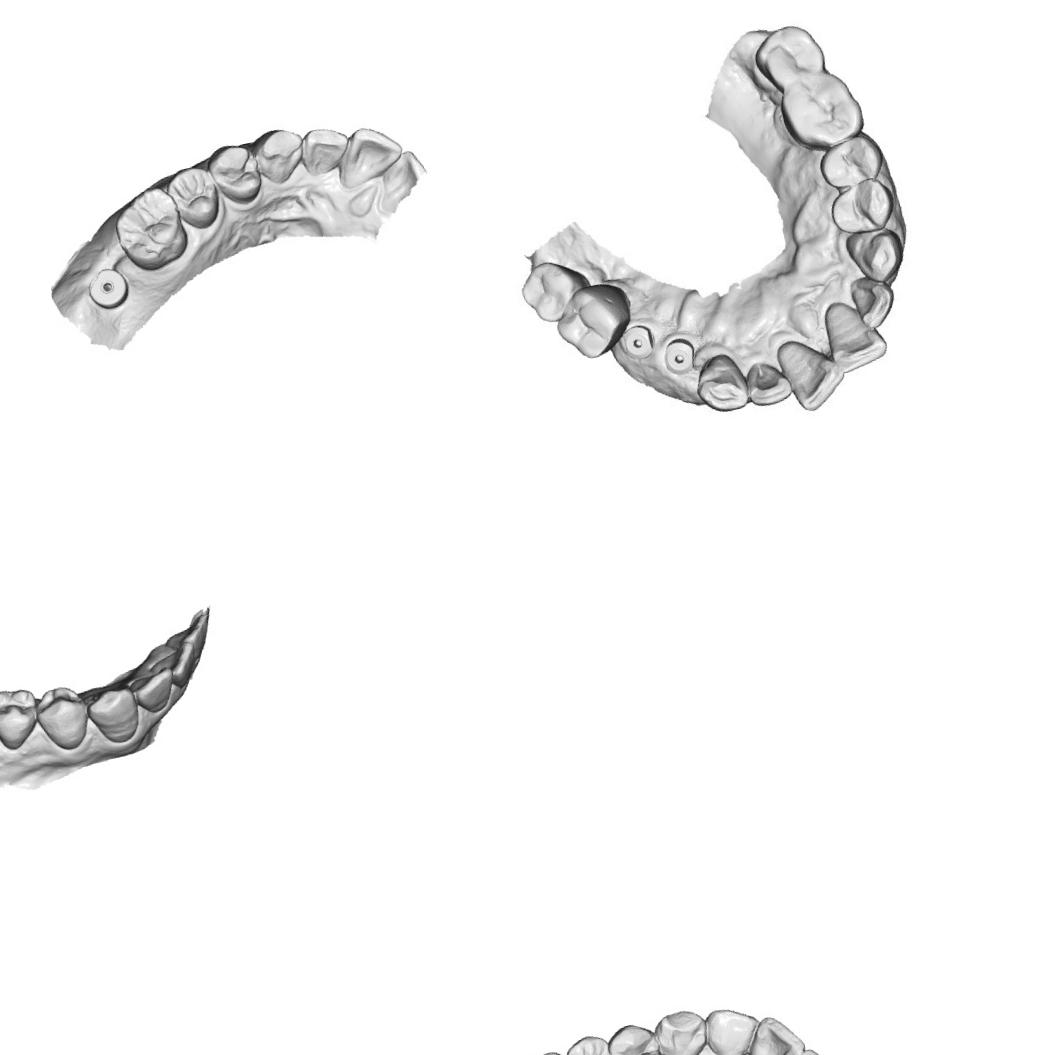canine: (846, 219, 912, 293), (692, 351, 758, 419), (246, 122, 310, 192), (82, 682, 144, 749), (650, 1005, 714, 1055)
implant: (82, 264, 134, 314), (659, 338, 697, 379), (617, 322, 653, 360)
incisor: (816, 293, 892, 377), (772, 330, 846, 415), (329, 118, 409, 192), (733, 1008, 812, 1055), (700, 1000, 766, 1055), (297, 120, 356, 180), (158, 613, 218, 670), (144, 638, 202, 696), (744, 355, 794, 414), (126, 664, 180, 718), (846, 274, 896, 330)
molar: (107, 182, 194, 278), (780, 65, 864, 151), (552, 282, 628, 362), (756, 19, 830, 90), (516, 259, 579, 326)
premolar: (201, 135, 269, 211), (31, 680, 95, 756), (162, 161, 226, 236), (826, 178, 897, 242), (822, 130, 887, 192), (0, 682, 45, 754), (602, 1018, 669, 1055), (562, 1030, 621, 1055)
